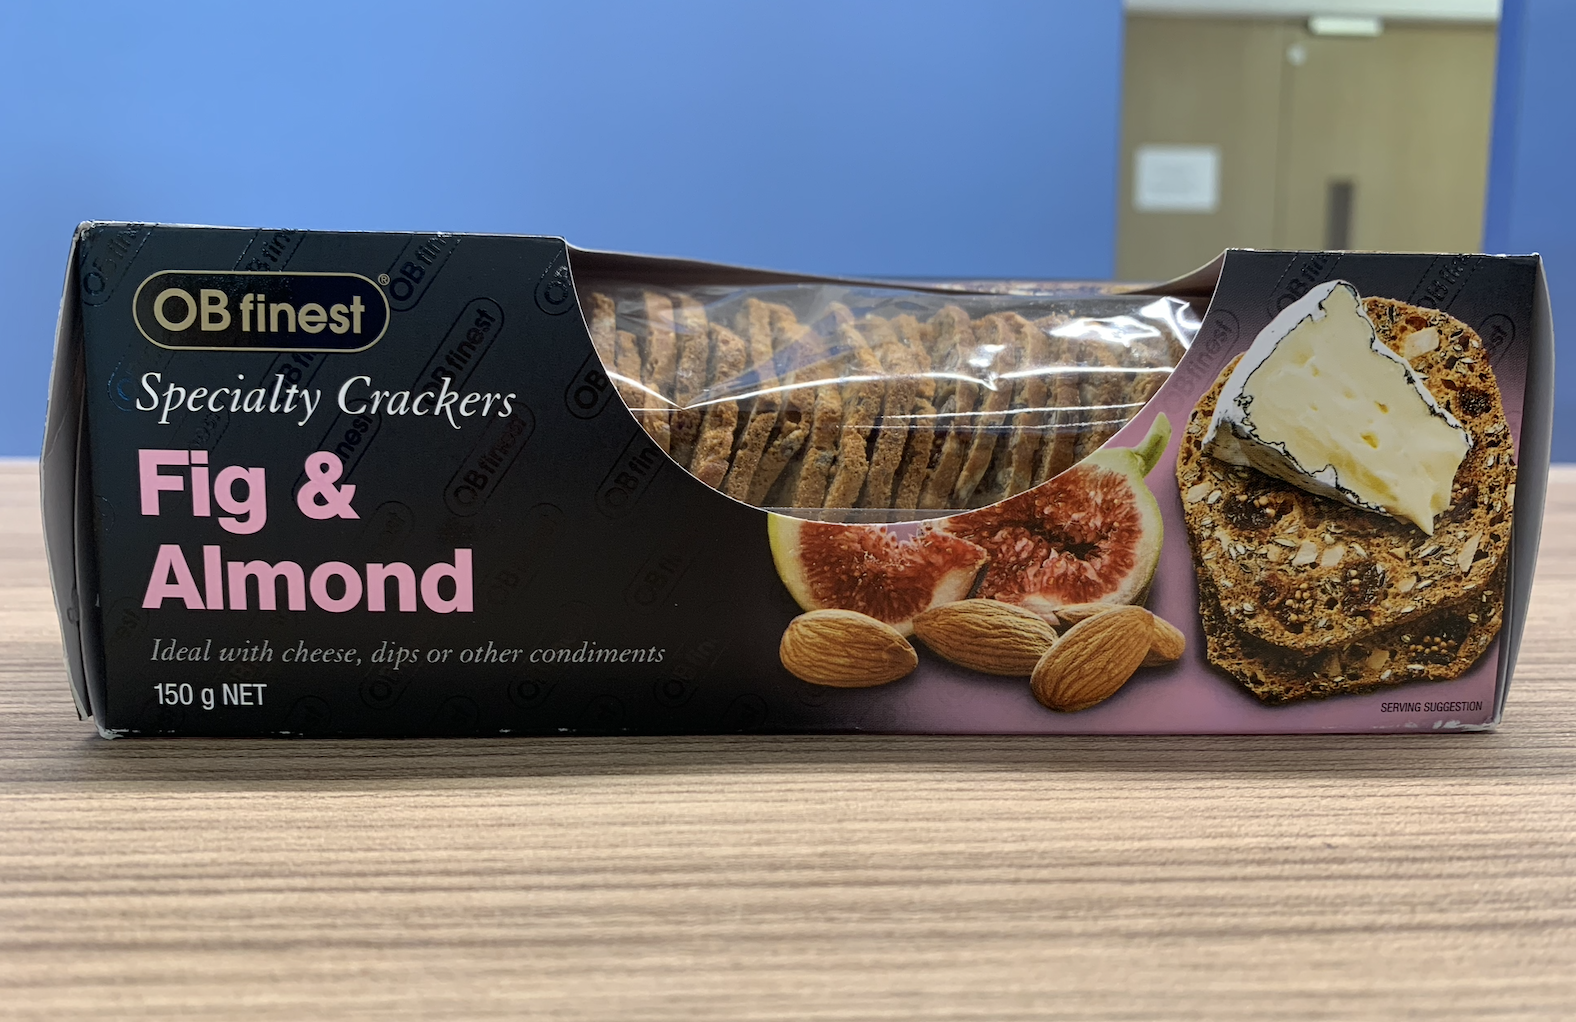crackers_150g: (98, 258, 1488, 727)
